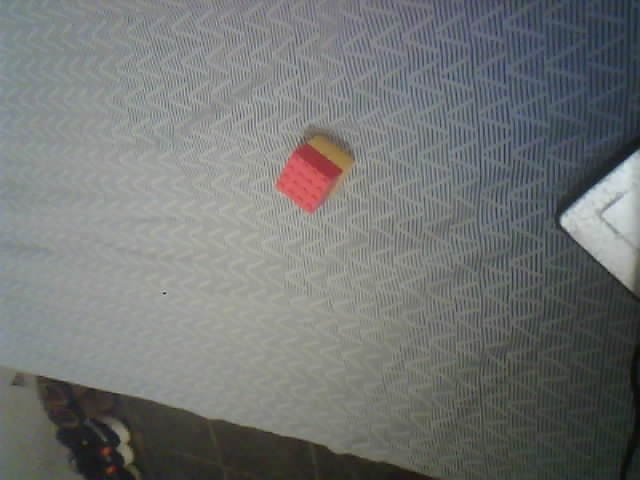lego: (272, 135, 356, 216)
